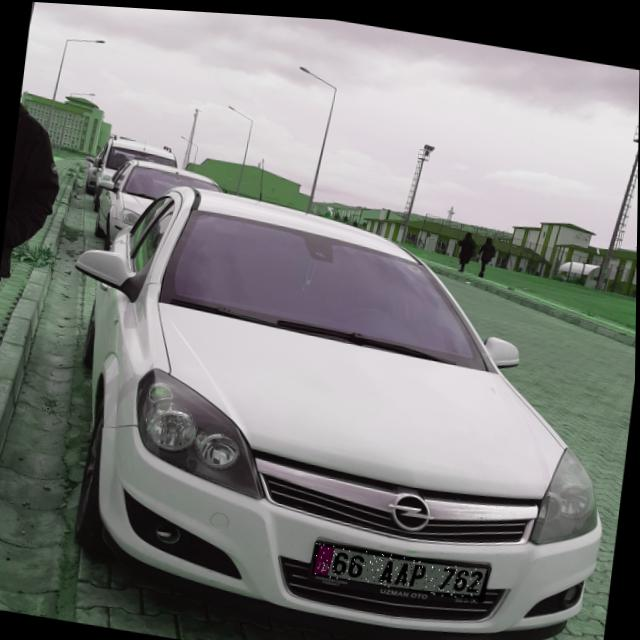license_plate: (313, 537, 490, 597)
